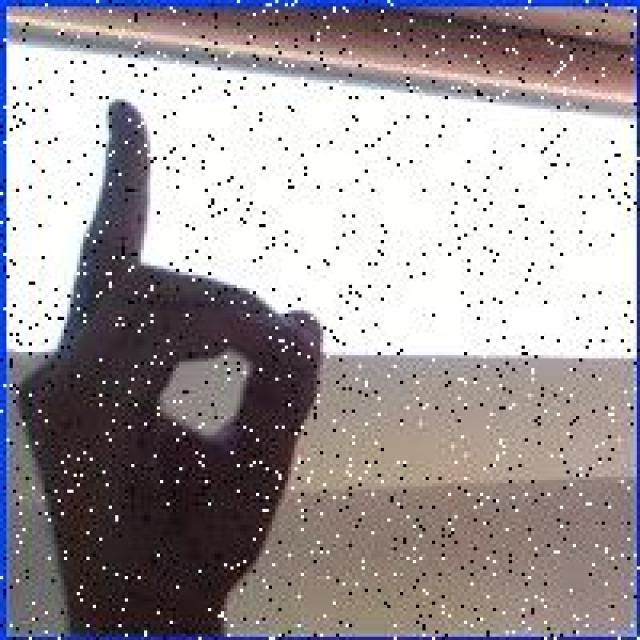D: (22, 80, 324, 618)
